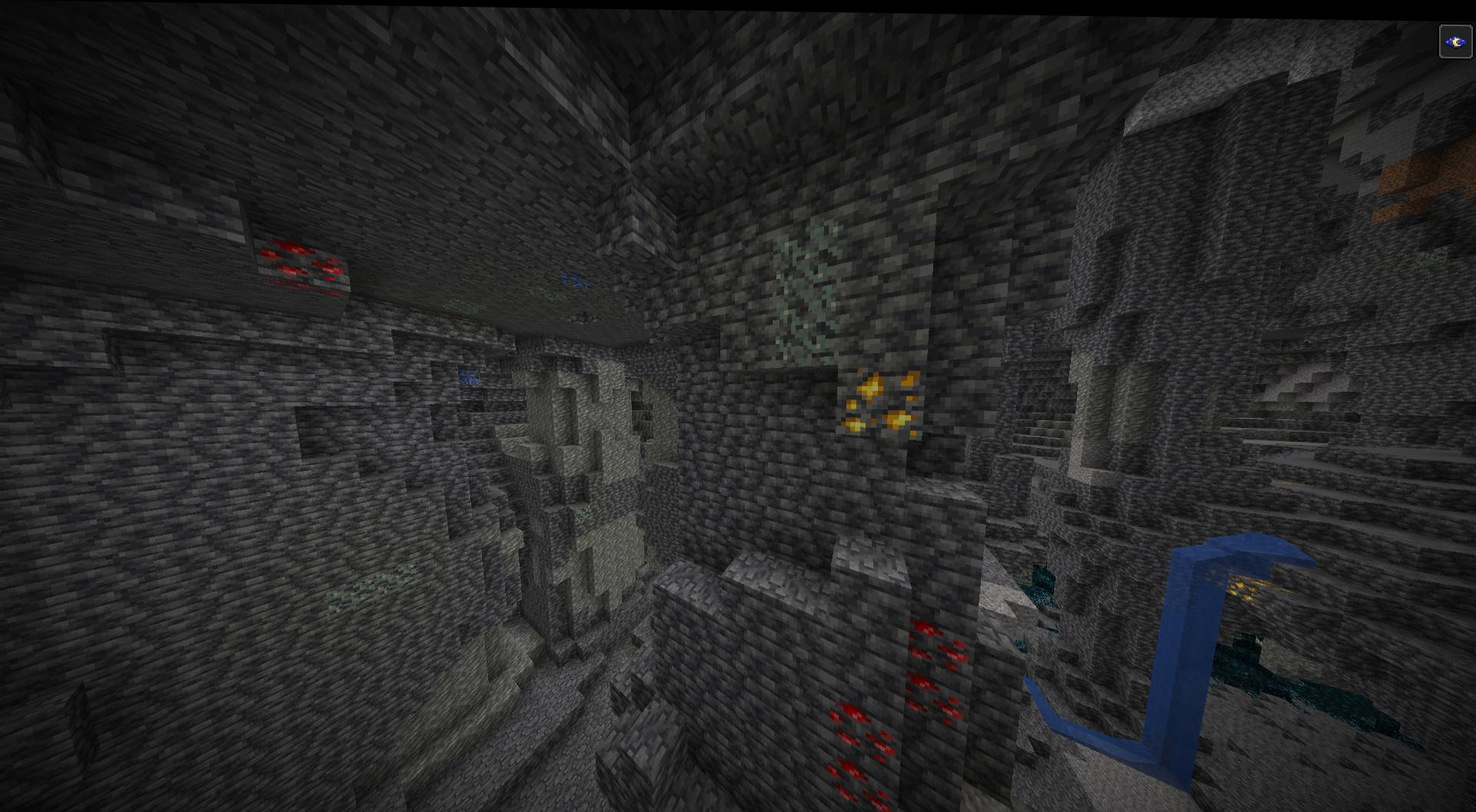gold ore: (841, 357, 922, 437), (1232, 569, 1282, 603)
redstone ore: (253, 231, 353, 293), (826, 698, 902, 762), (899, 611, 972, 672), (828, 755, 903, 812), (903, 668, 969, 729)
